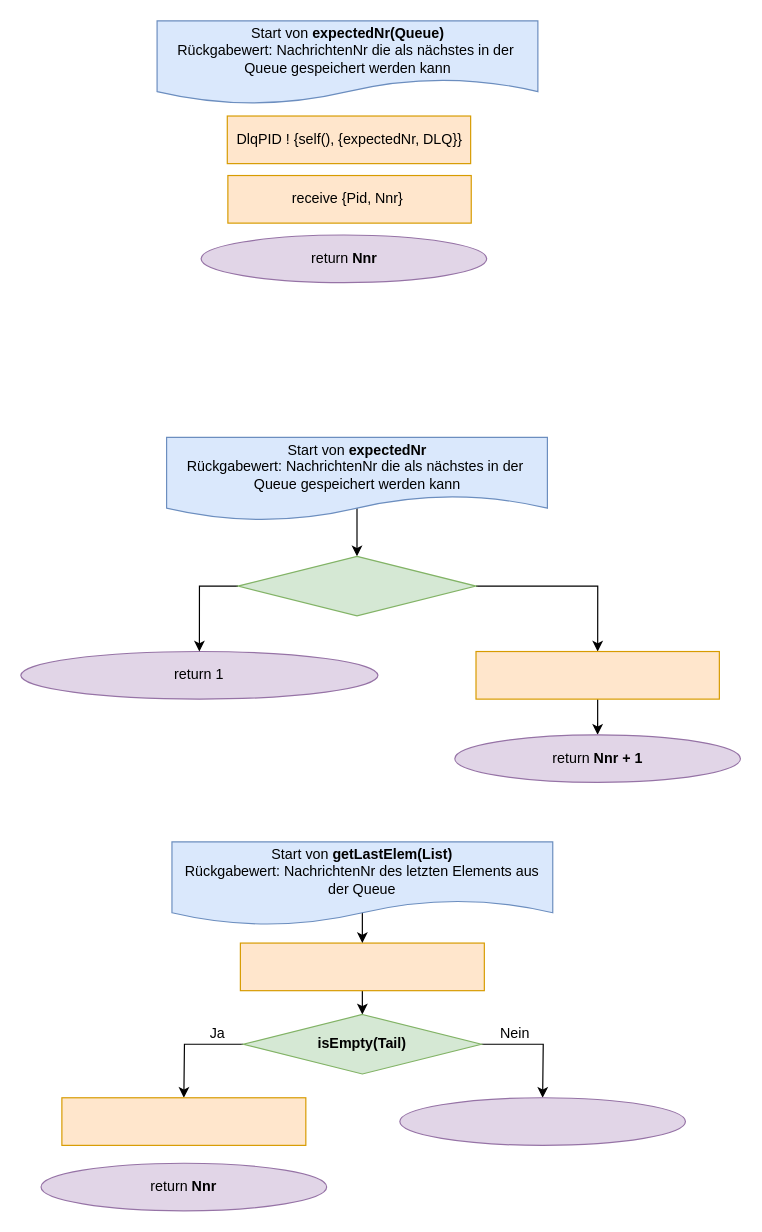
Image size: 762x1232. Some labels were removed from this diagram. Each missing label, with the centre of its shape:
isEmpty(DLQ): point (356, 585)
Nnr = getLastElem(Queue): point (597, 674)
return getLastElem(Tail): point (542, 1121)
Teile Head in 1. Element = Nnr und Rest = MsgRest auf: point (183, 1121)
Teile List in 1. Element = Head und Rest = Tail auf: point (361, 966)
